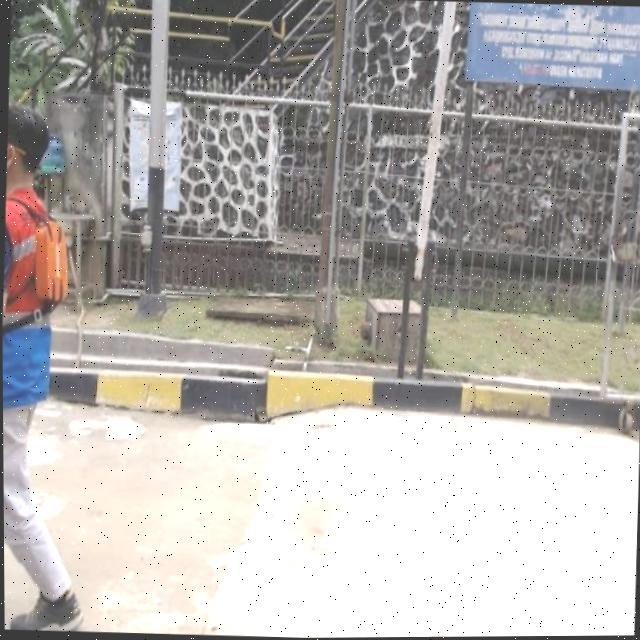goggles_on: (7, 126, 36, 160)
